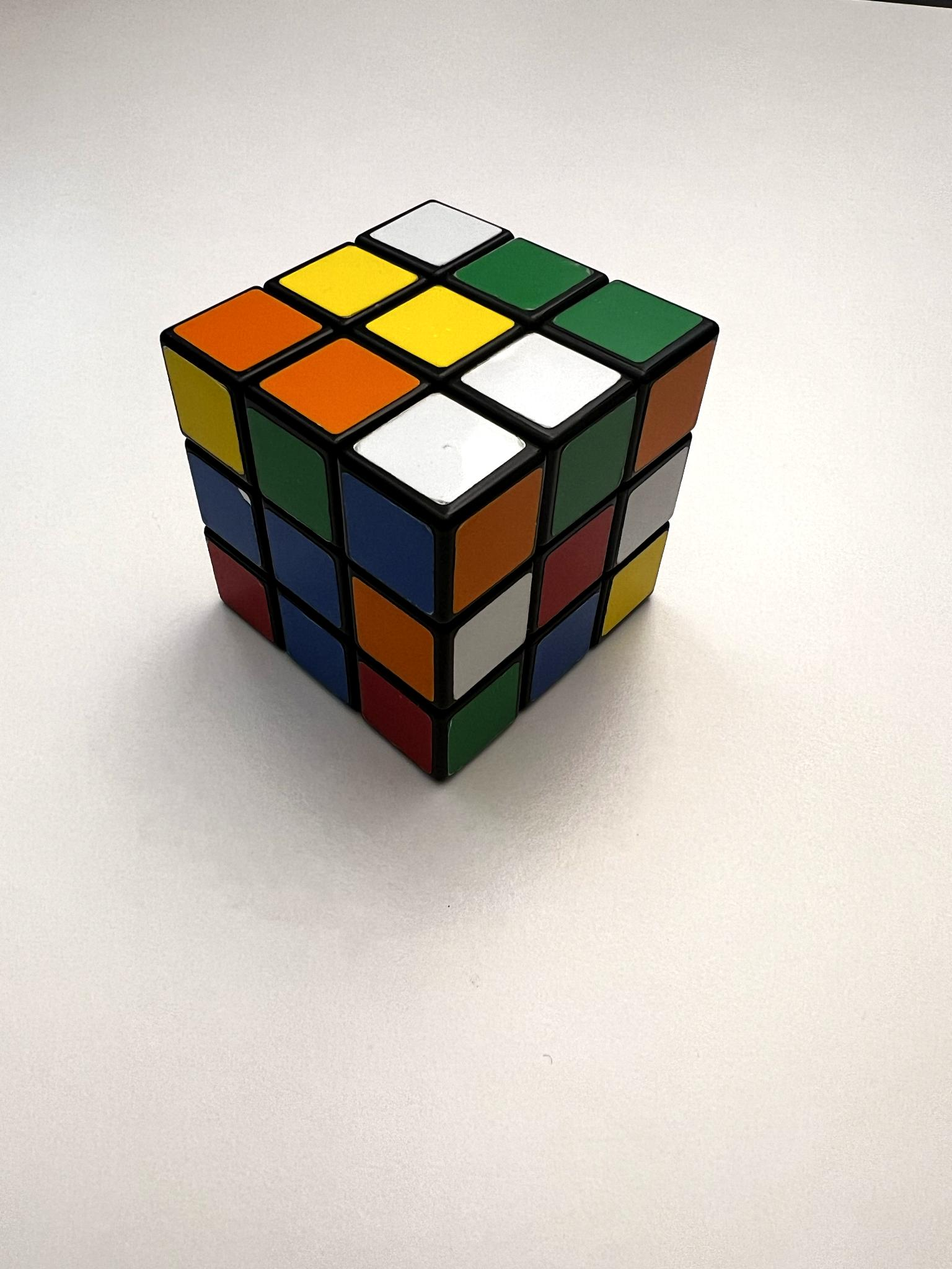rubiks_cube: (164, 201, 716, 776)
